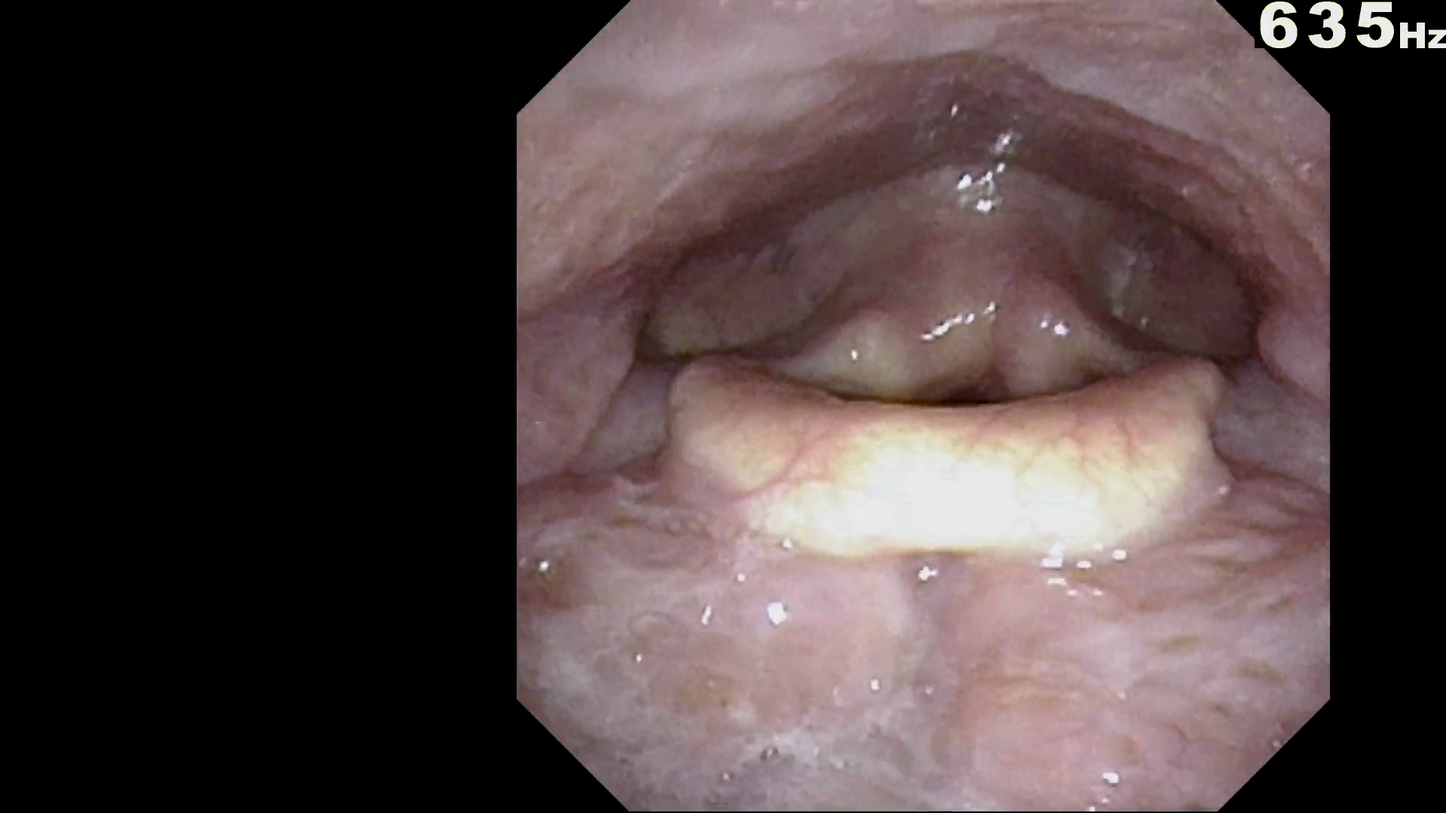epiglottis: (683, 368, 1265, 592)
